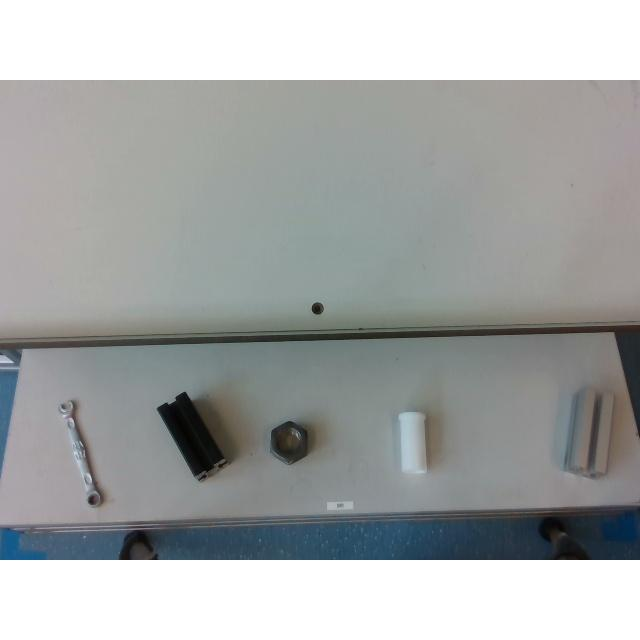M30: (270, 421, 306, 463)
S40_40_B: (157, 392, 227, 481)
S40_40_G: (564, 388, 612, 477)
Spacer: (398, 410, 430, 476)
Wrench: (60, 400, 100, 506)
